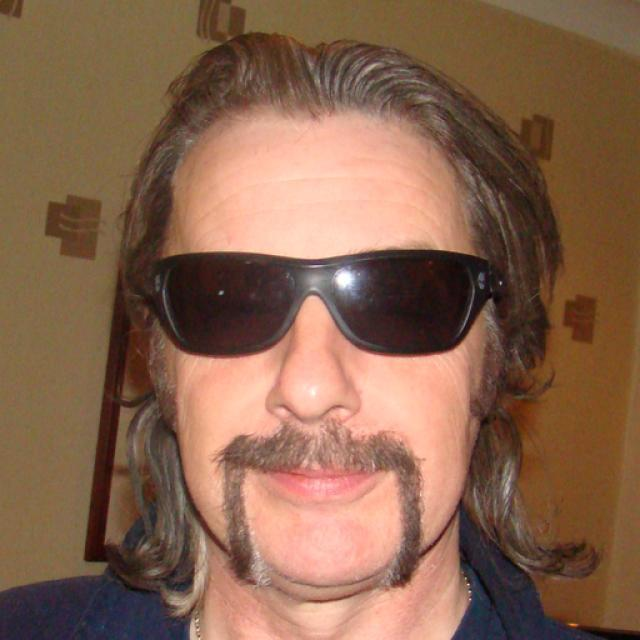neutral: (158, 116, 482, 599)
